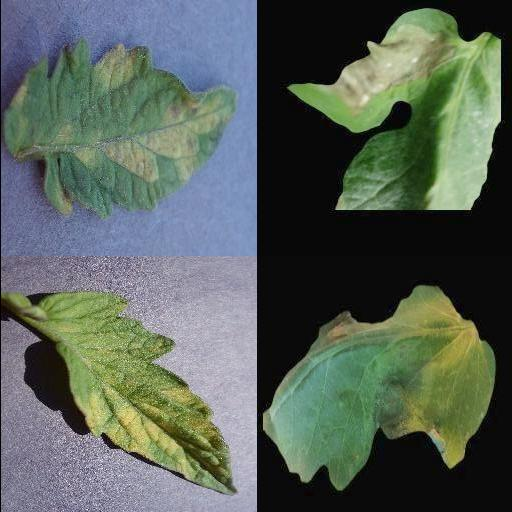Late Blight: (261, 285, 495, 491), (282, 9, 500, 209)
Leaf Mold: (0, 43, 236, 217), (38, 290, 236, 496)
